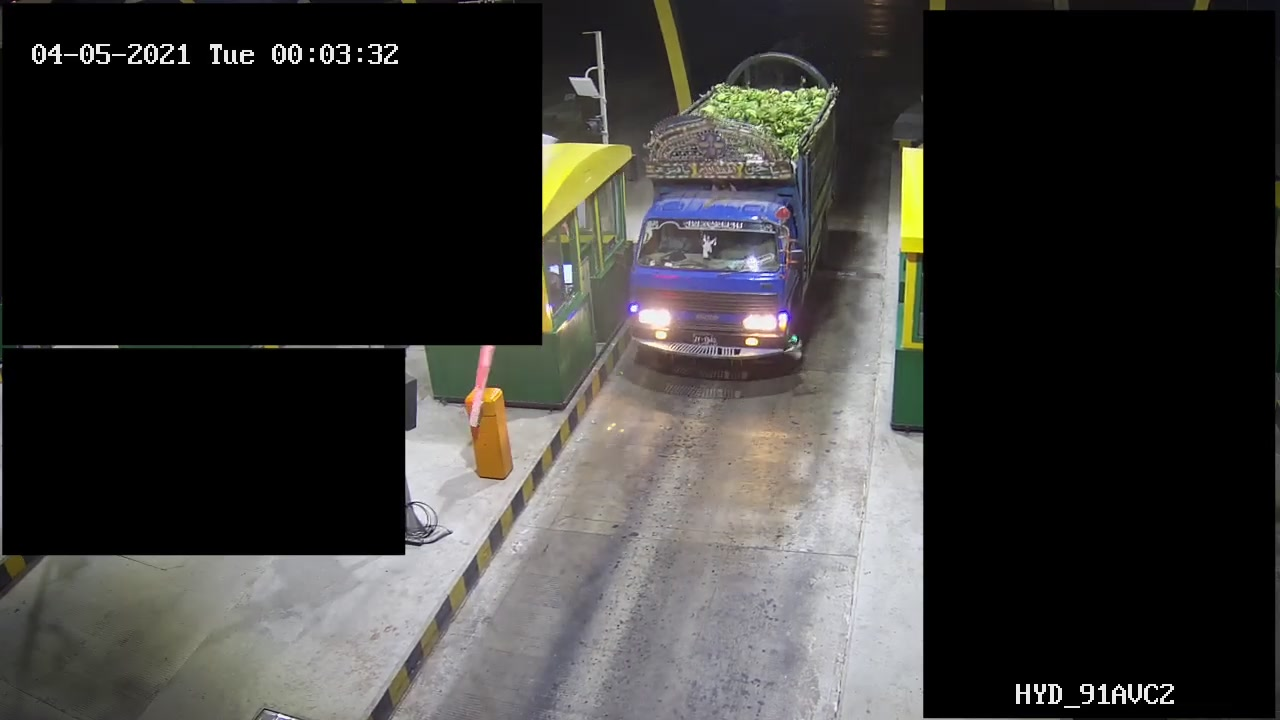F5: (615, 54, 848, 372)
